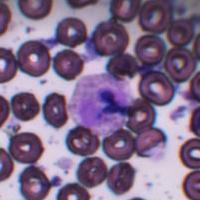N: (70, 72, 132, 128)
